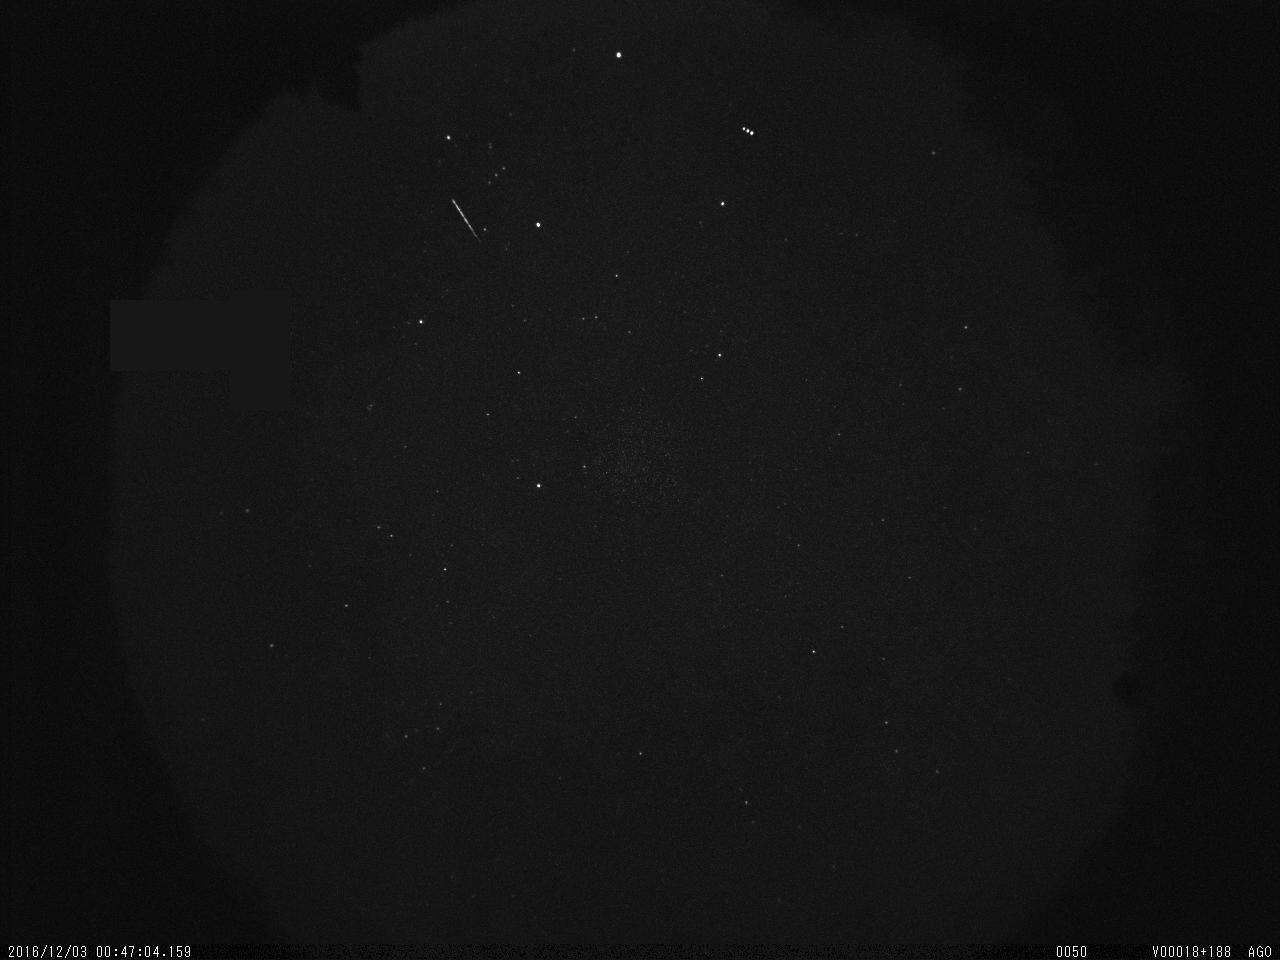Meteor: (447, 194, 488, 247)
